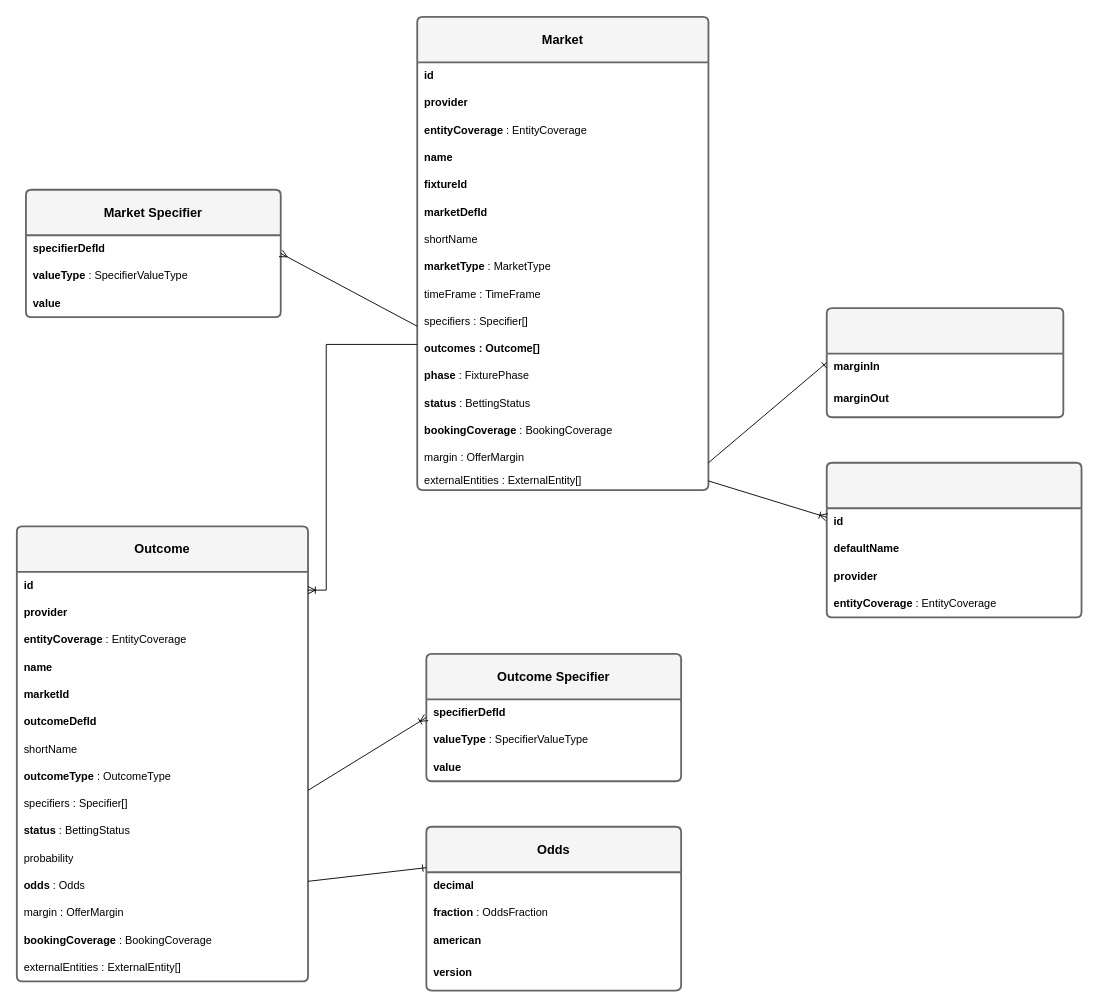
This 1097x1006 diagram has some shape labels left out. Each missing label, with the box of its shape:
ExternalEntity: (825, 461, 1082, 618)
OfferMargin: (825, 307, 1064, 418)
